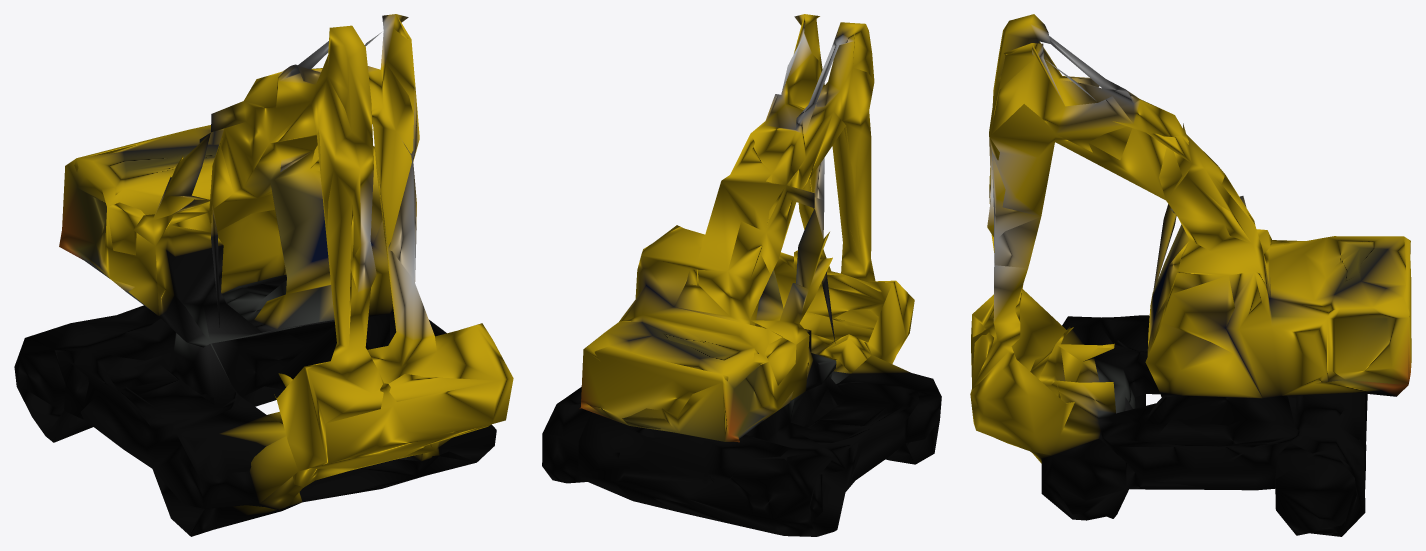
Rendered from gen3d-excavator-lod0.glb.
3 views of the same model, side by side, from view 1: azimuth 30°, elevation 25°; view 2: azimuth 150°, elevation 25°; view 3: azimuth 270°, elevation 25° (orthographic). The views are drawn at different scales.
Visible parts, largest first — view 1: part_0; view 2: part_0; view 3: part_0.
Boxes of the visible parts, x1,y1,x2,y2 form: part_0: (14, 14, 513, 536); part_0: (542, 14, 941, 536); part_0: (970, 14, 1411, 536).
Size of the model in its own units: 0.7066 by 0.9959 by 0.9148.
